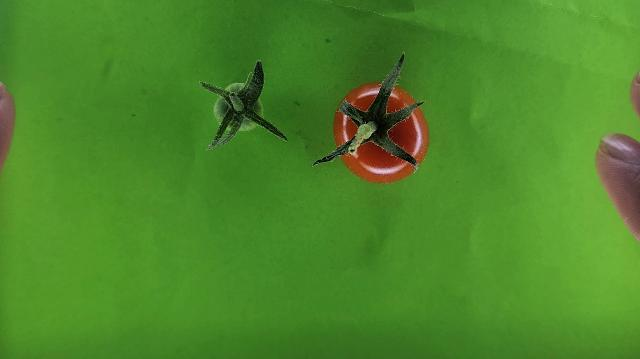Fruit Maturation: (212, 83, 261, 132)
Fully Grown: (335, 84, 428, 182)
